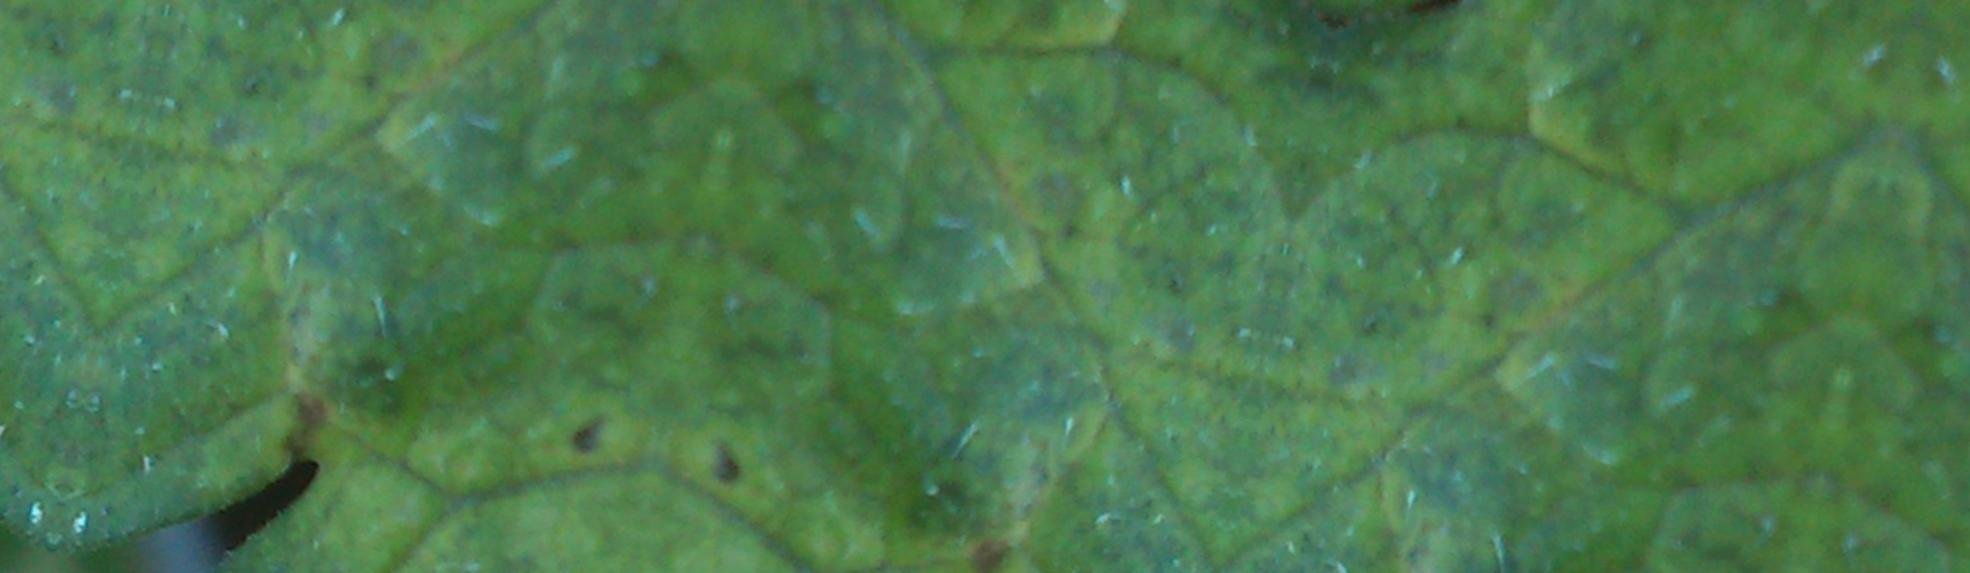Tomato mold leaf: (499, 0, 1461, 573)
